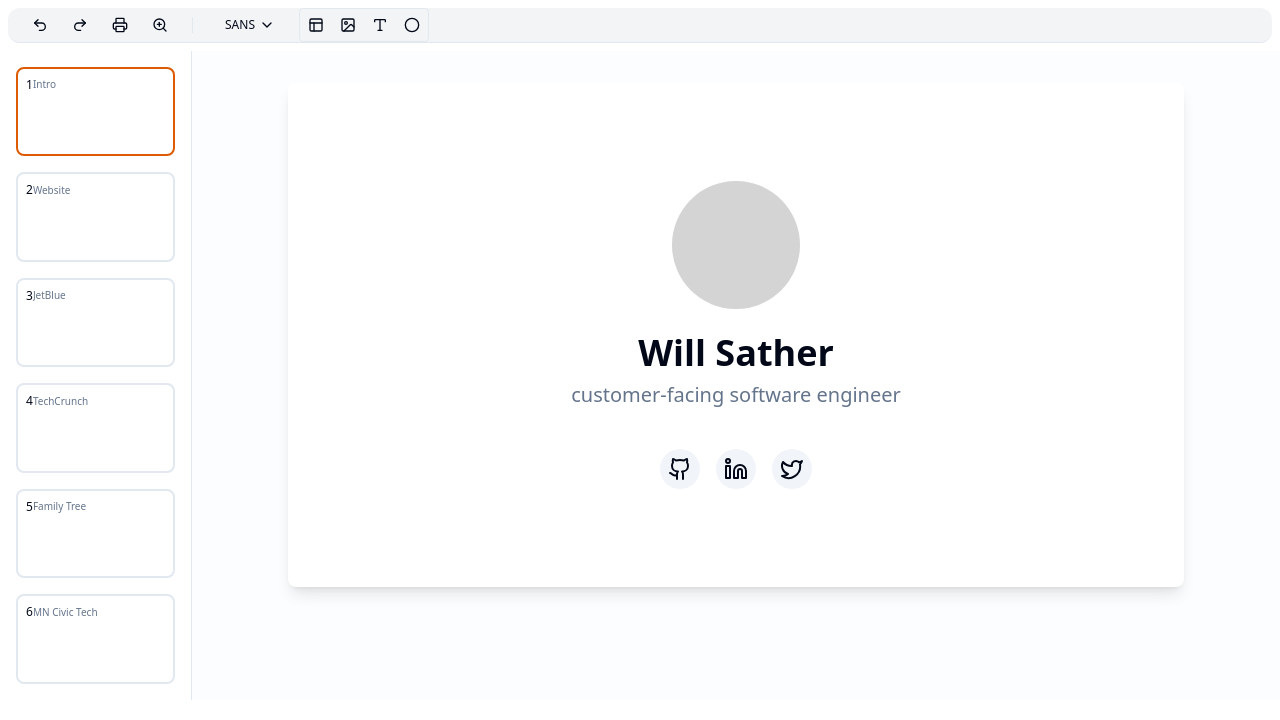
slides › selects slides through the sidebar buttons
The width and height of the screenshot is (1280, 720).
Click the button "2 Website".
click(96, 217)  # box [16,172,175,262]
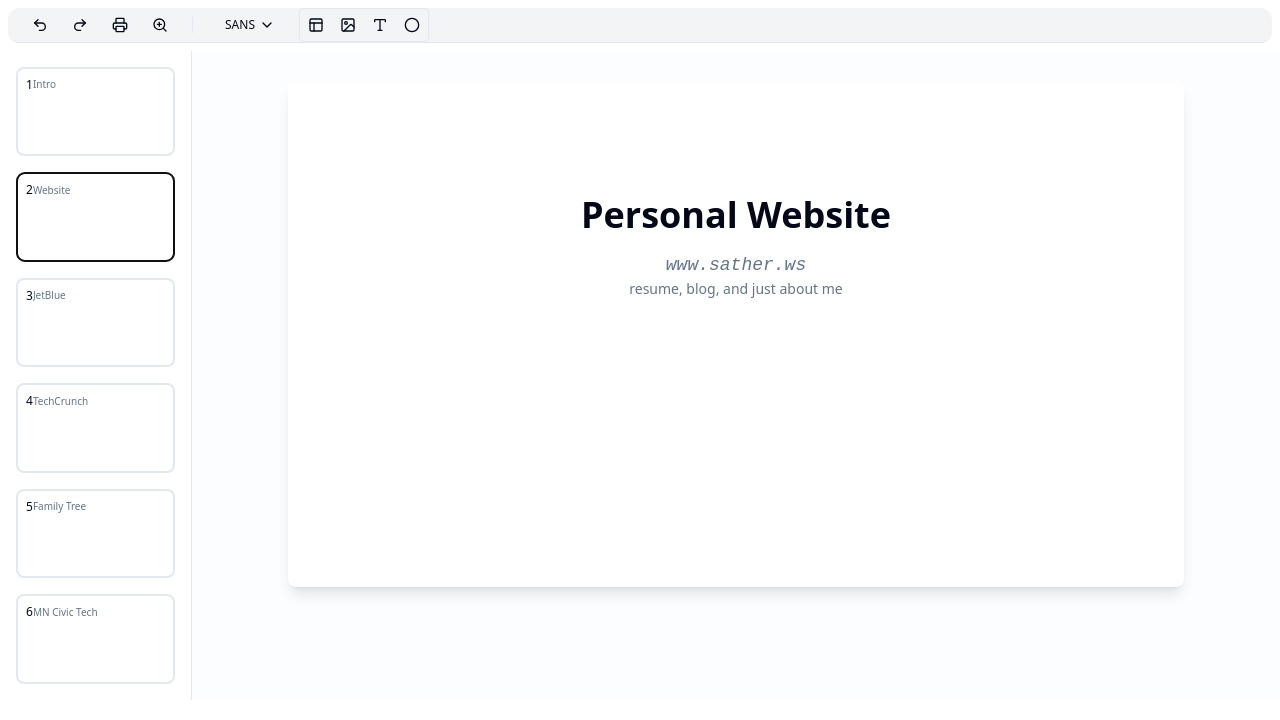
Expected: the heading "Personal Website" is shown, [581,190,891,239]
